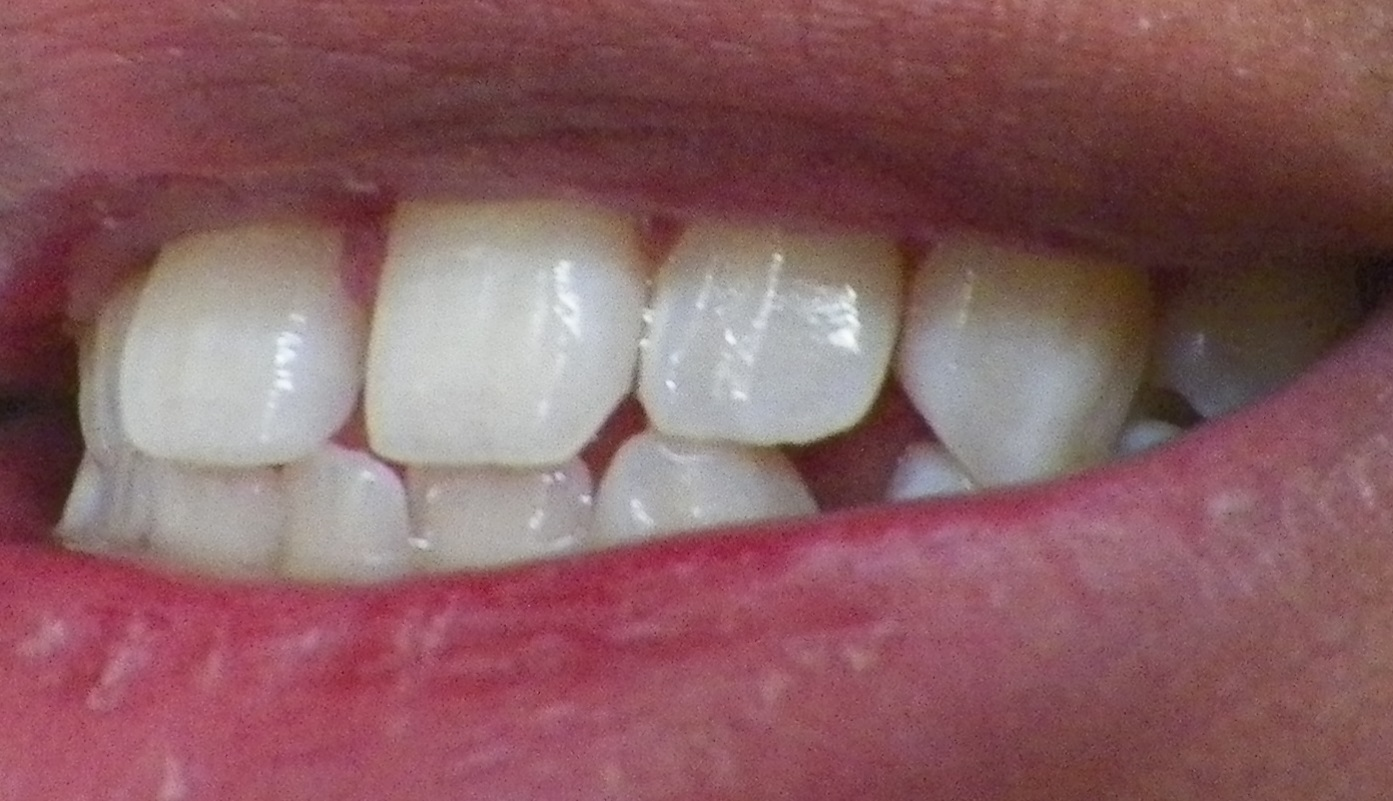boca: (59, 191, 1282, 593)
